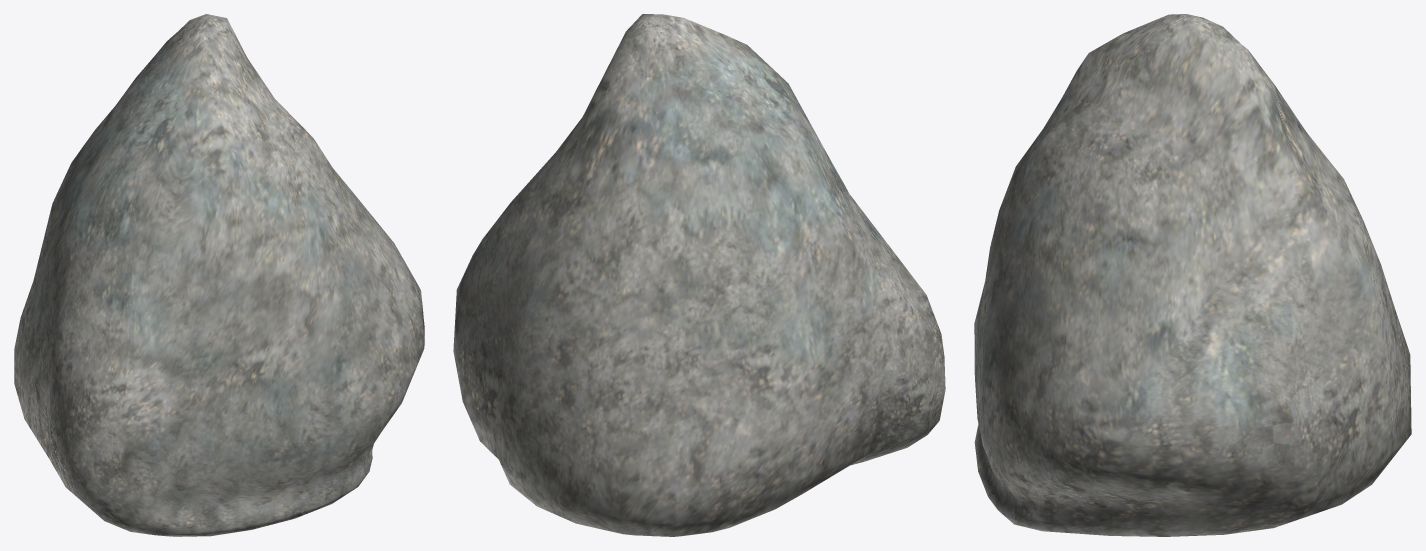
The model's file is lowpolyrock.fbx.
3 renders of one model, left to right at view 1: azimuth 30°, elevation 25°; view 2: azimuth 150°, elevation 25°; view 3: azimuth 270°, elevation 25°, orthographic. The views are drawn at different scales.
Parts seen in each view (by area): view 1: Rock.001; view 2: Rock.001; view 3: Rock.001.
Part boxes in pixels (<box>): Rock.001: <box>14,14,424,536</box>; Rock.001: <box>453,14,945,536</box>; Rock.001: <box>974,14,1411,536</box>.
Bounding box in the file's own units: 254 × 274 × 224.
